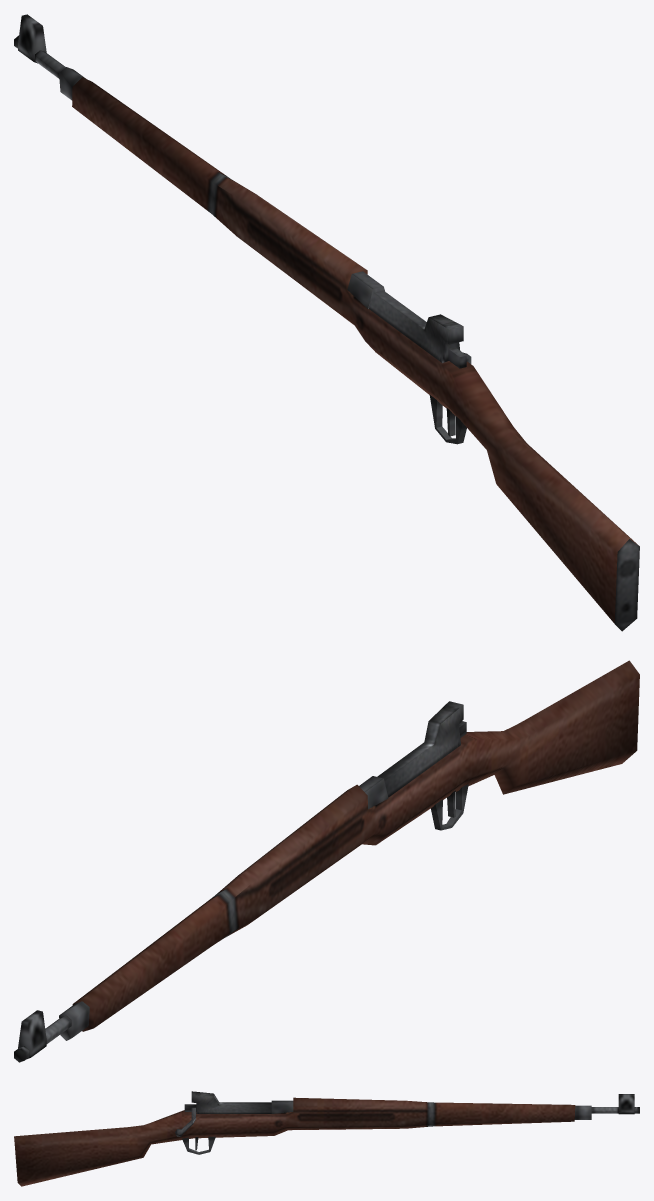
File: rifle.fbx
3 renders of one model, top to bottom at view 1: azimuth 30°, elevation 25°; view 2: azimuth 150°, elevation 25°; view 3: azimuth 270°, elevation 25°, orthographic. The views are drawn at different scales.
Visible parts, largest first — view 1: Cube.007; view 2: Cube.007; view 3: Cube.007.
Boxes of the visible parts, box(x1,y1,x2,y2) form: Cube.007: box(14, 14, 639, 631); Cube.007: box(14, 660, 639, 1062); Cube.007: box(14, 1091, 639, 1186).
Bounding box in the file's own units: 3.76 × 19.34 × 117.
1 material, 1 textured.
